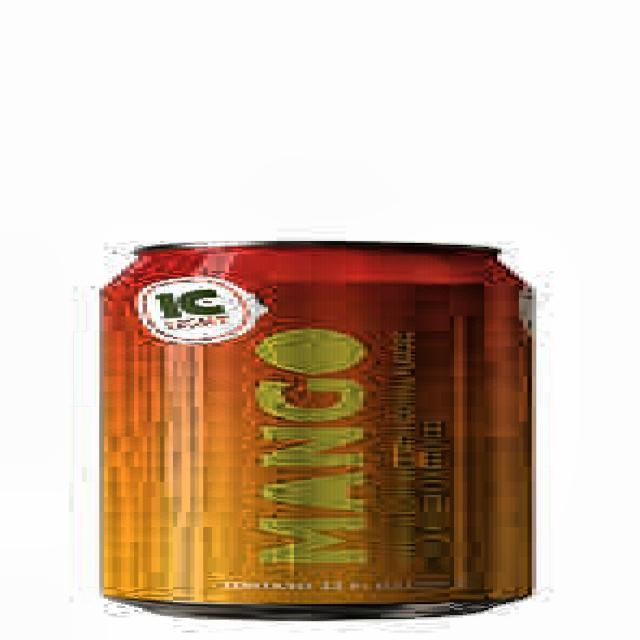can: (91, 232, 560, 623)
